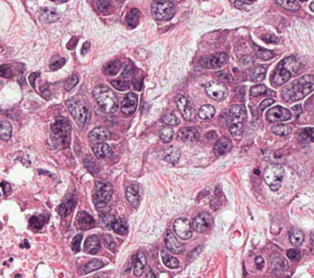nucleus: (93, 85, 117, 113), (66, 98, 89, 126), (92, 181, 112, 213), (51, 117, 70, 148), (227, 104, 245, 135), (175, 94, 195, 120), (264, 164, 283, 190), (205, 80, 227, 100), (200, 52, 227, 68), (151, 1, 174, 19), (266, 106, 291, 122), (192, 212, 212, 232), (164, 231, 182, 253), (88, 126, 109, 144), (173, 218, 191, 239), (75, 211, 94, 229), (121, 93, 137, 114), (58, 197, 75, 216), (214, 137, 231, 155), (92, 142, 112, 157), (177, 127, 198, 141), (29, 214, 47, 230), (126, 184, 139, 206), (39, 8, 59, 22), (163, 146, 179, 163), (103, 60, 121, 75), (84, 235, 99, 253), (125, 8, 139, 27), (99, 213, 115, 228), (112, 218, 127, 234), (84, 156, 98, 173), (0, 119, 11, 140), (110, 78, 129, 90), (250, 66, 265, 81), (64, 74, 78, 90), (198, 104, 214, 118), (162, 112, 179, 125), (102, 234, 115, 251), (271, 124, 291, 135), (250, 84, 268, 96), (159, 127, 173, 142), (256, 47, 273, 59), (49, 58, 65, 70), (71, 234, 82, 251), (259, 98, 273, 110), (122, 65, 133, 80), (96, 1, 110, 12), (0, 64, 11, 77), (261, 34, 278, 42), (1, 182, 11, 194), (234, 1, 251, 8), (67, 38, 77, 49), (132, 78, 142, 89), (81, 42, 89, 54)
